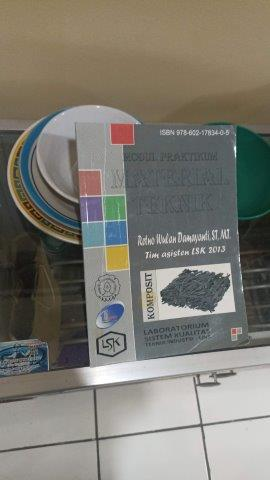kertas: (75, 124, 249, 369)
